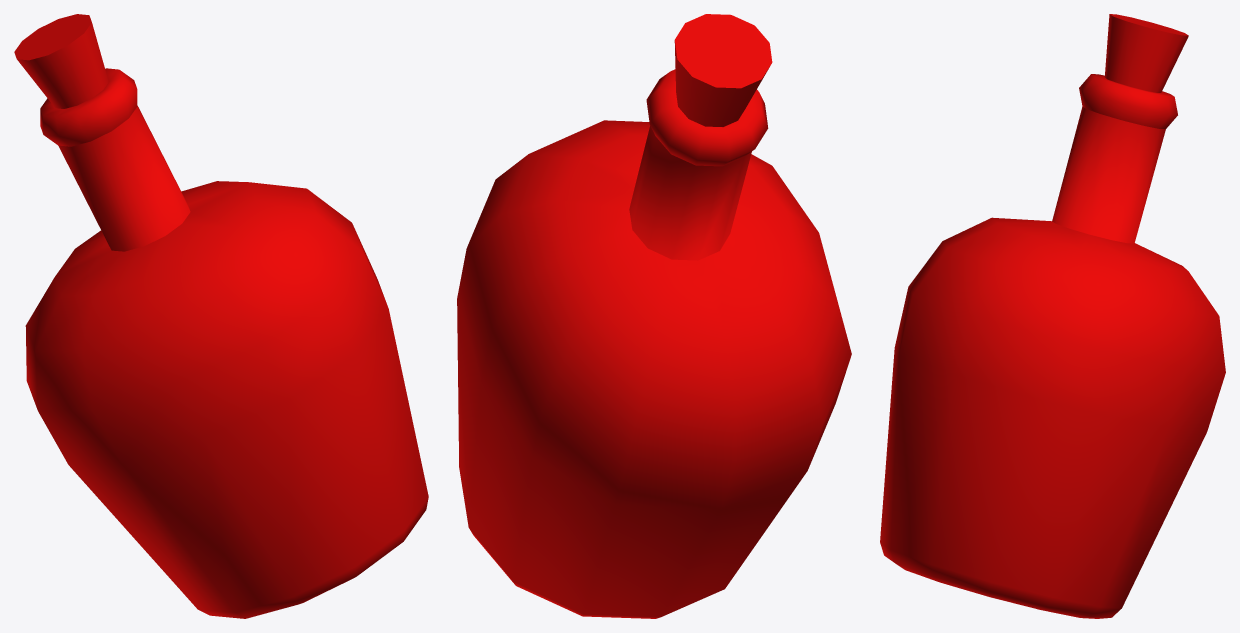
Rendered from Potions_04.fbx.
3 views of the same model, side by side, from view 1: azimuth 30°, elevation 25°; view 2: azimuth 150°, elevation 25°; view 3: azimuth 270°, elevation 25° (orthographic). The views are drawn at different scales.
Parts seen in each view (by area): view 1: Potion_04; view 2: Potion_04; view 3: Potion_04.
Boxes of the visible parts, x1,y1,x2,y2 form: Potion_04: (14,14,428,618); Potion_04: (457,14,851,618); Potion_04: (880,14,1225,618).
Size of the model in its own units: 0.346 by 0.3246 by 0.5586.
